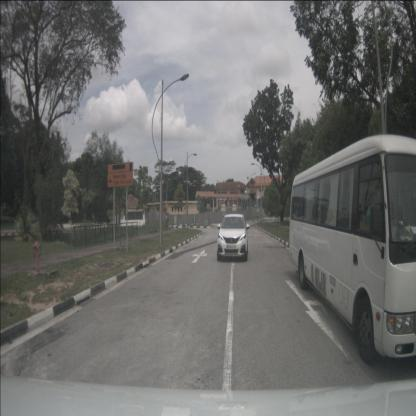vehicle-bus-rigid: (289, 134, 415, 365)
vehicle-car: (217, 214, 248, 262)
